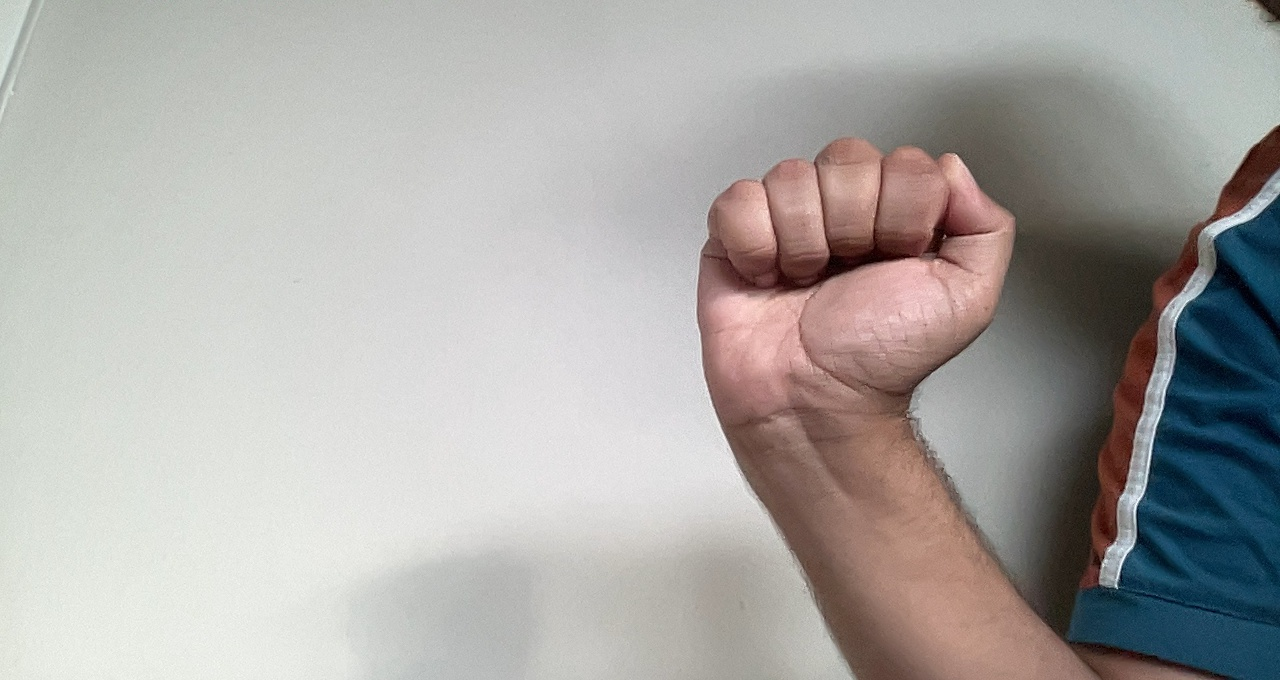closedfist: (676, 121, 1028, 466)
